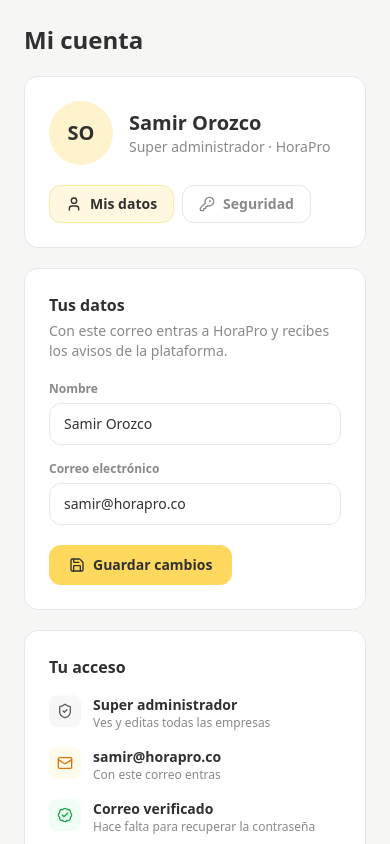
AdminCuenta › en Seguridad, dice qué le falta a la contraseña mientras se escribe
Click the button "Seguridad". click: point(247, 204)
box: left=182, top=185, right=311, bottom=223
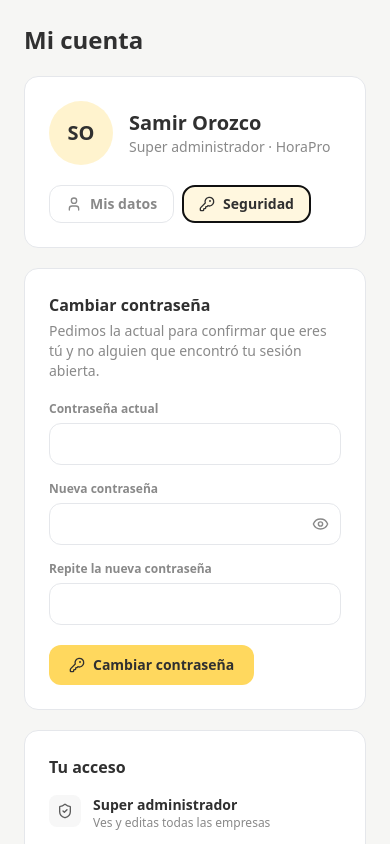
Type "contrasena" into the password field labelled "Nueva contraseña". click: point(195, 524)
box: left=49, top=503, right=341, bottom=545
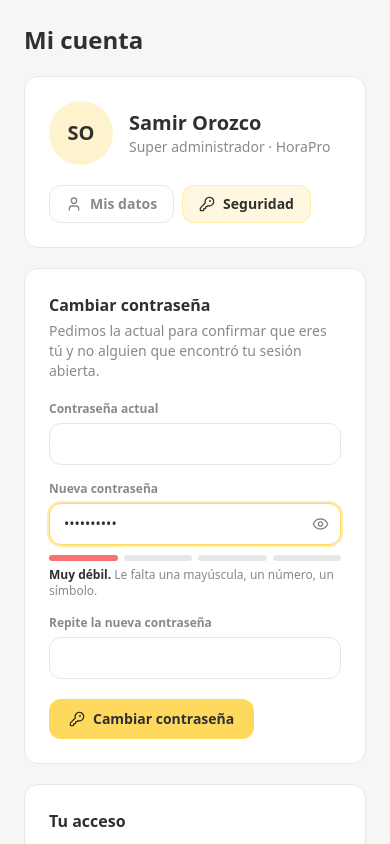
Expected: the text "Muy débil. Le falta una mayúscula, un número, un símbolo." is shown, left=49, top=567, right=341, bottom=599
